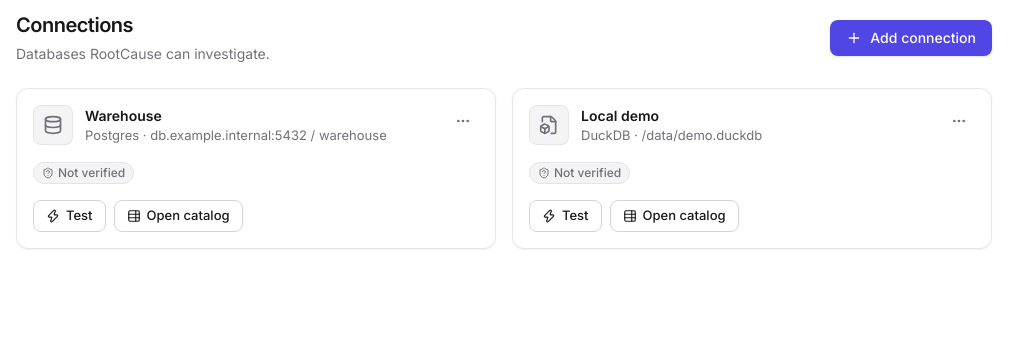
Test: ConnectionsPage cards › reports a failed test request without a stuck spinner
Expected: the heading "Warehouse" is shown, [85,107,162,124]
Click the button with aria-label "Test Warehouse" at [69, 216], box [33,200,106,232]
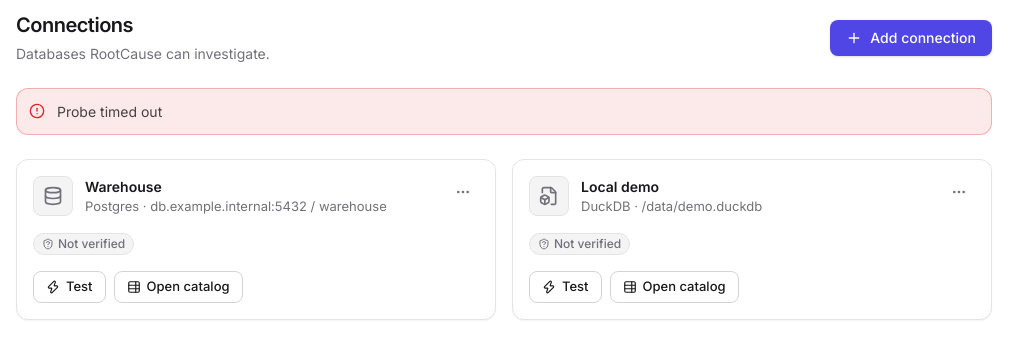
Expected: the text "Not verified" below "Postgres" is shown, [58,236,125,250]
Now the message reads "Probe timed out", box [57,103,162,120]
